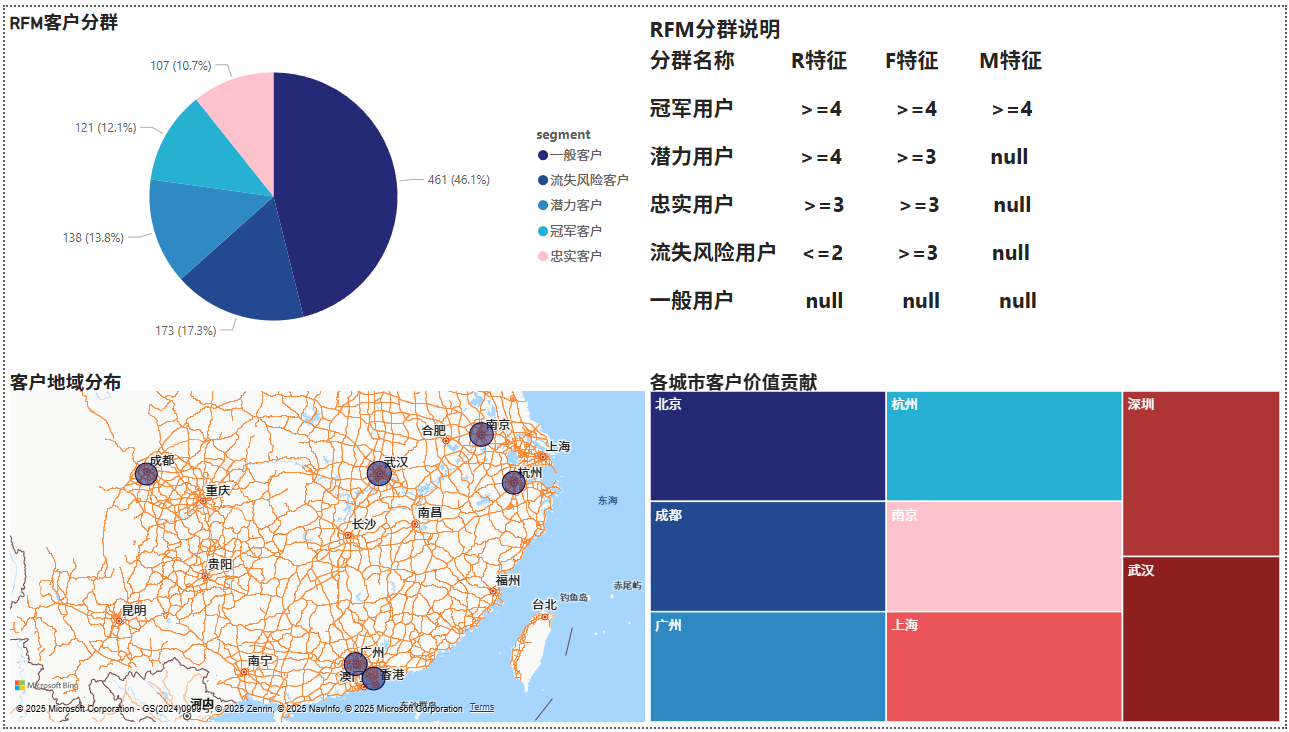

Layout of this report page (visuals, bound fields, positions):
{"tool":"powerbi","page":{"name":"客户分析","canvas":[1280,720],"ordinal":2},"visuals":[{"type":"pieChart","title":"RFM客户分群","fields":{"Category":["rfm_analysis.segment"],"Y":["日期表.客户数"]},"box":[0,0,640,359.9],"z":0},{"type":"map","title":"客户地域分布","fields":{"Category":["customers.city"],"Size":["日期表.客户数"]},"box":[0,359.9,649.7,359.9],"z":1000},{"type":"treemap","title":"各城市客户价值贡献","fields":{"Group":["customers.city"],"Values":["CountNonNull(city_performance.total_sales)"]},"box":[640,359.9,640,359.9],"z":2000},{"type":"textbox","box":[640,0,640,359.9],"z":2002}]}

Visuals, with their boxes in screenshot pixels (x1, y1, x2, y2), scaled from the page's 1280x720 canvas onto the 1289x732 screenshot:
"RFM客户分群" pieChart: {"x1": 0, "y1": 0, "x2": 644, "y2": 366}
"客户地域分布" map: {"x1": 0, "y1": 366, "x2": 654, "y2": 731}
"各城市客户价值贡献" treemap: {"x1": 644, "y1": 366, "x2": 1288, "y2": 731}
textbox: {"x1": 644, "y1": 0, "x2": 1288, "y2": 366}
